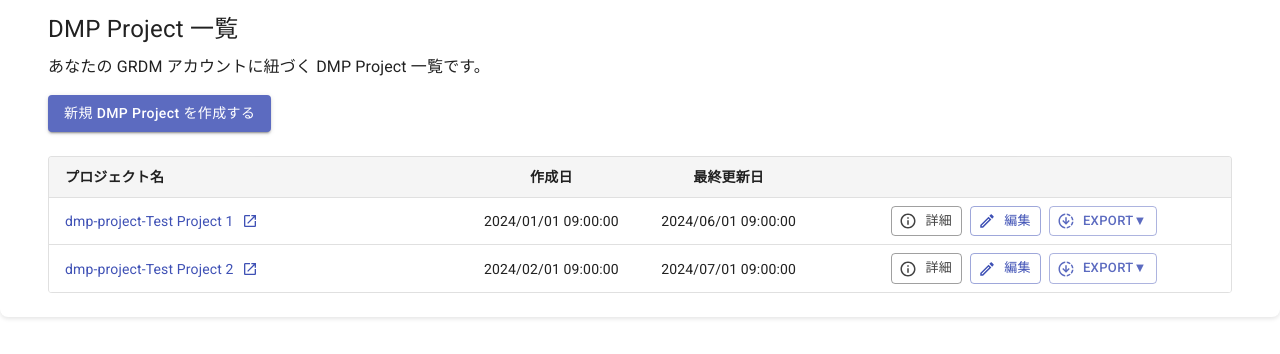
Test case: ProjectTable › Export menu › hides menu after selecting an item
Click the button "Export▼" in the row of "dmp-project-Test Project 1".
click(1103, 221)  # box [1049, 206, 1157, 236]
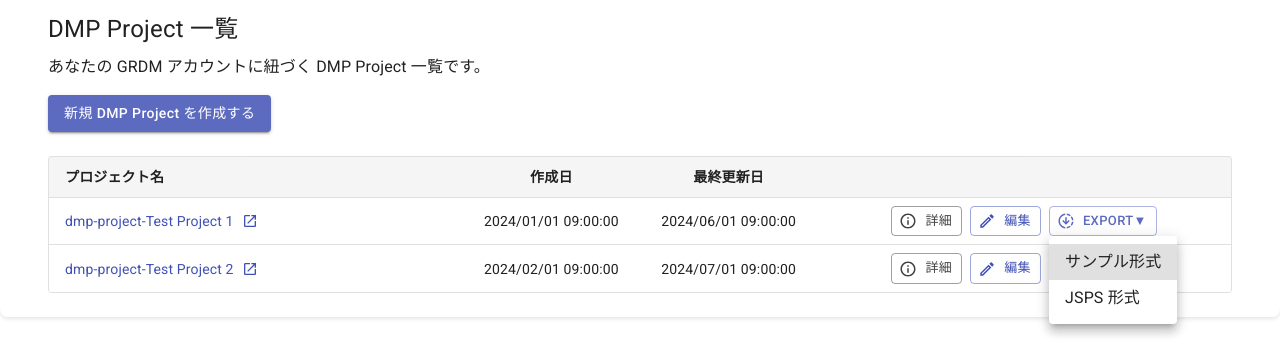
Click the menu item "JSPS 形式".
click(1102, 298)  # box [1065, 288, 1140, 307]
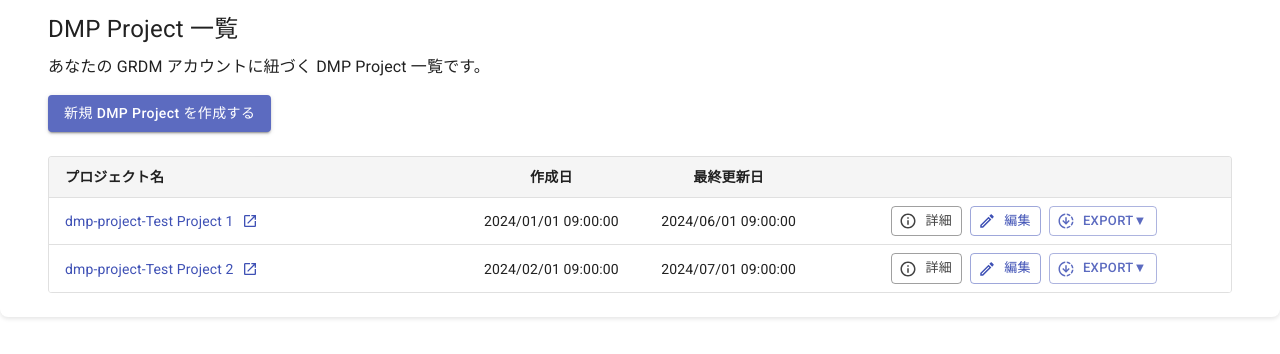
Expected: the menu item "JSPS 形式" is gone
